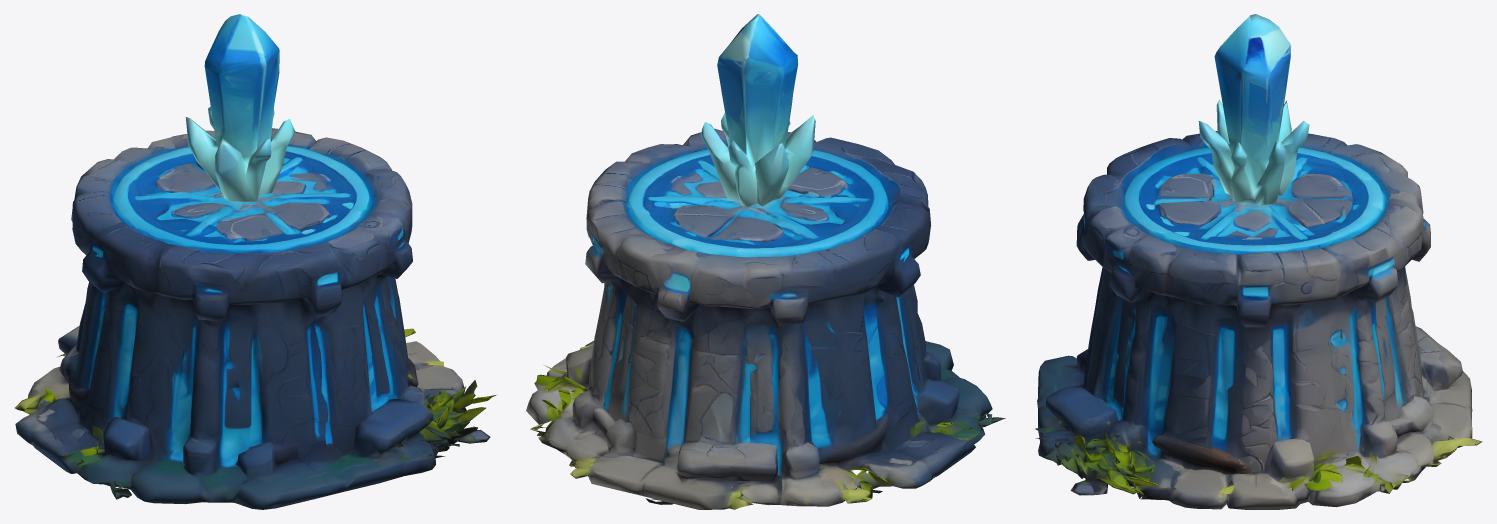
Rendered from wegstein.glb.
3 renders of one model, left to right at view 1: azimuth 30°, elevation 25°; view 2: azimuth 150°, elevation 25°; view 3: azimuth 270°, elevation 25°, orthographic.
Parts seen in each view (by area): view 1: tripo_node_6c2bca6f-35bb-49be-a611-c79752b1e80c; view 2: tripo_node_6c2bca6f-35bb-49be-a611-c79752b1e80c; view 3: tripo_node_6c2bca6f-35bb-49be-a611-c79752b1e80c.
Boxes of the visible parts, x1,y1,x2,y2 form: tripo_node_6c2bca6f-35bb-49be-a611-c79752b1e80c: [14, 14, 497, 509]; tripo_node_6c2bca6f-35bb-49be-a611-c79752b1e80c: [526, 14, 1005, 509]; tripo_node_6c2bca6f-35bb-49be-a611-c79752b1e80c: [1035, 14, 1482, 509].
Size of the model in its own units: 0.9942 by 0.9973 by 0.9841.
Materials: 1 (1 with a texture image).
